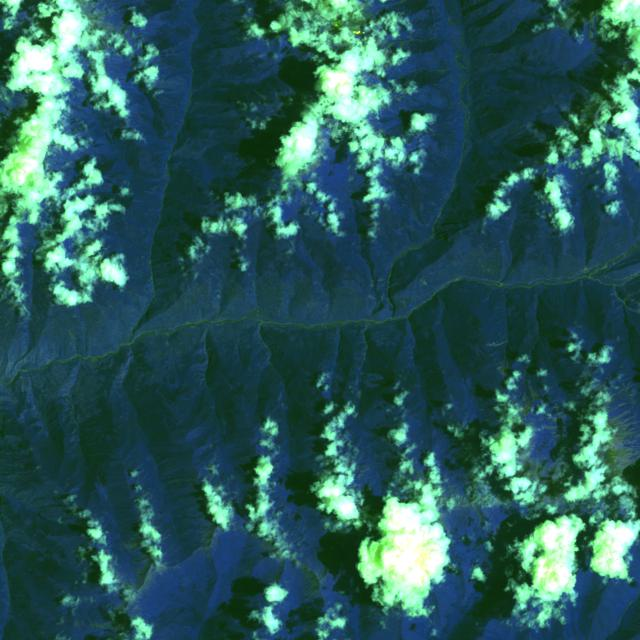landslides: (627, 210, 640, 244), (487, 340, 508, 347), (68, 330, 75, 346), (420, 277, 429, 289), (406, 234, 413, 249)
